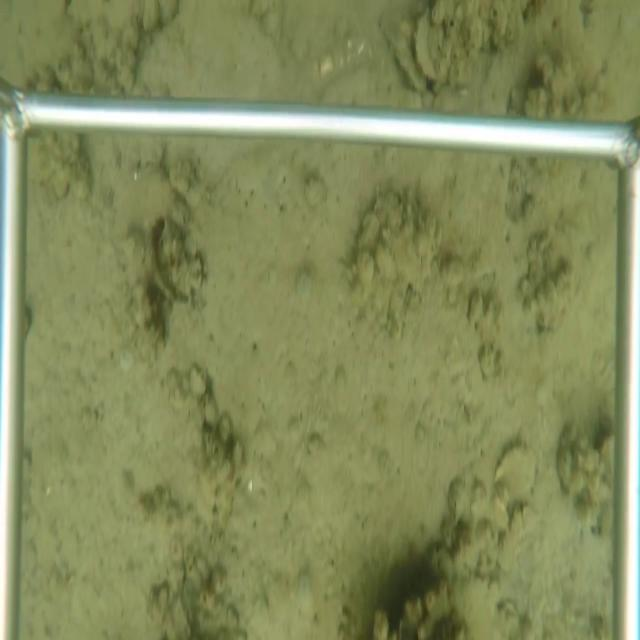Oyster-Indeterminate: (378, 7, 426, 96), (495, 441, 540, 511), (411, 5, 441, 85)
